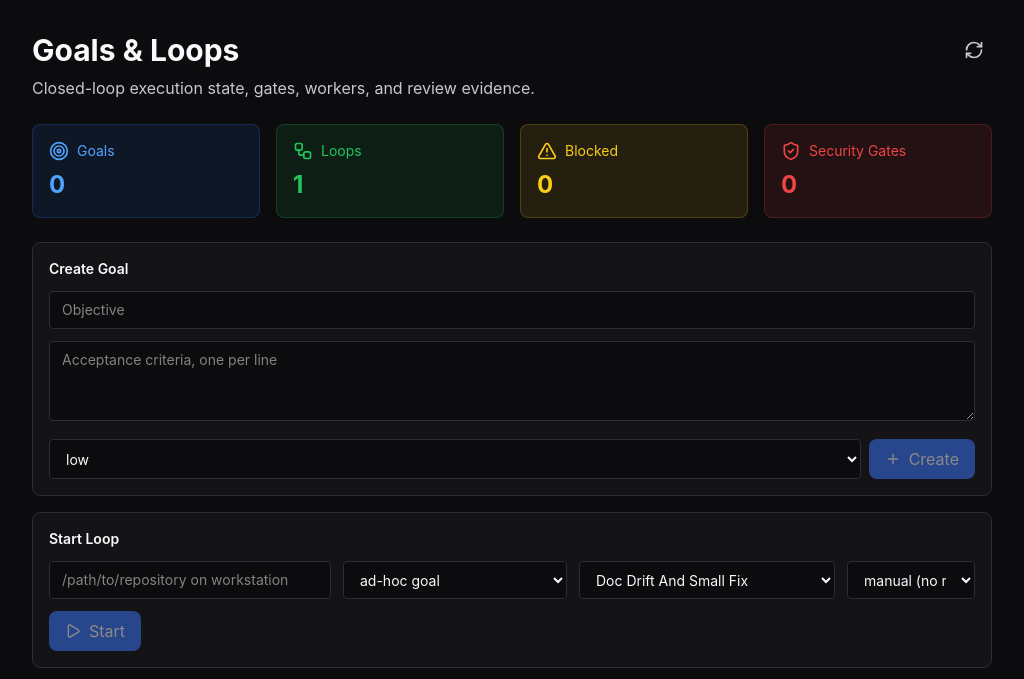
it: reloads persisted lease ownership after an approval-required response
The width and height of the screenshot is (1024, 679).
Select "codex" in the dropdown named "Worker runtime" at [911, 580], box [847, 561, 975, 599]
(page scrolled)
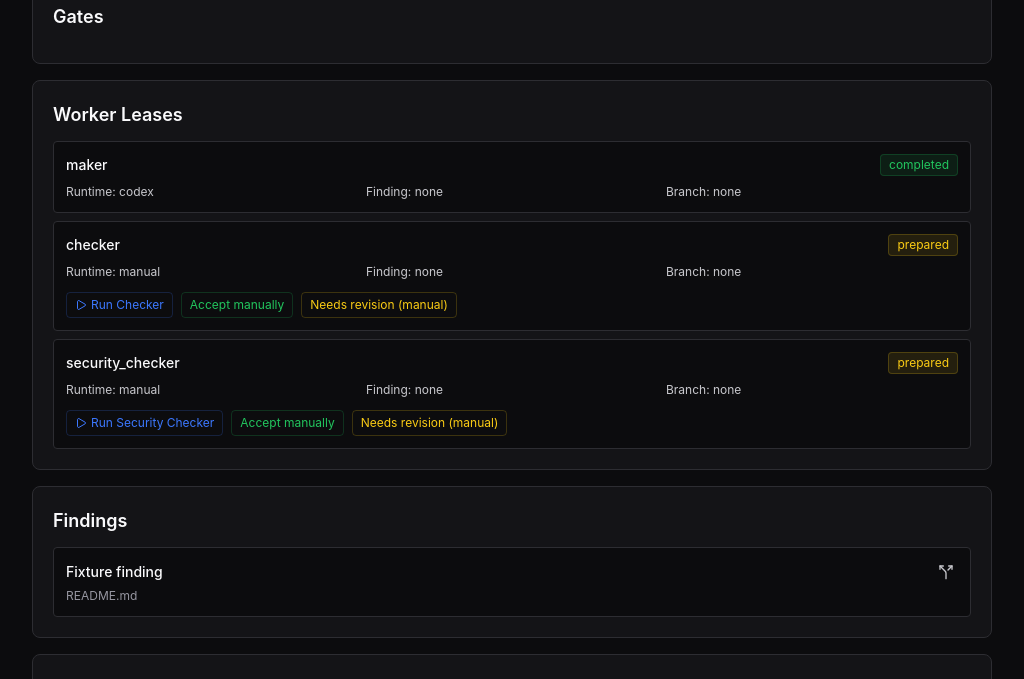
Click the button "Run Security Checker" at [145, 423], box [66, 410, 223, 436]
(page scrolled)
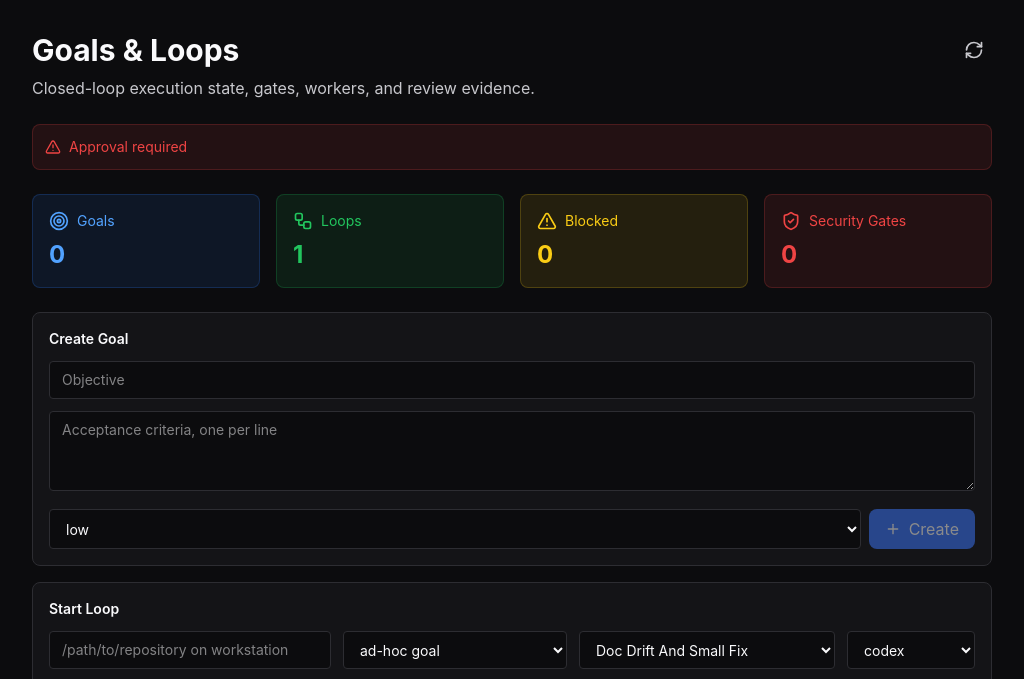
Expected: the message reads "Approval required", [69, 138, 187, 155]
